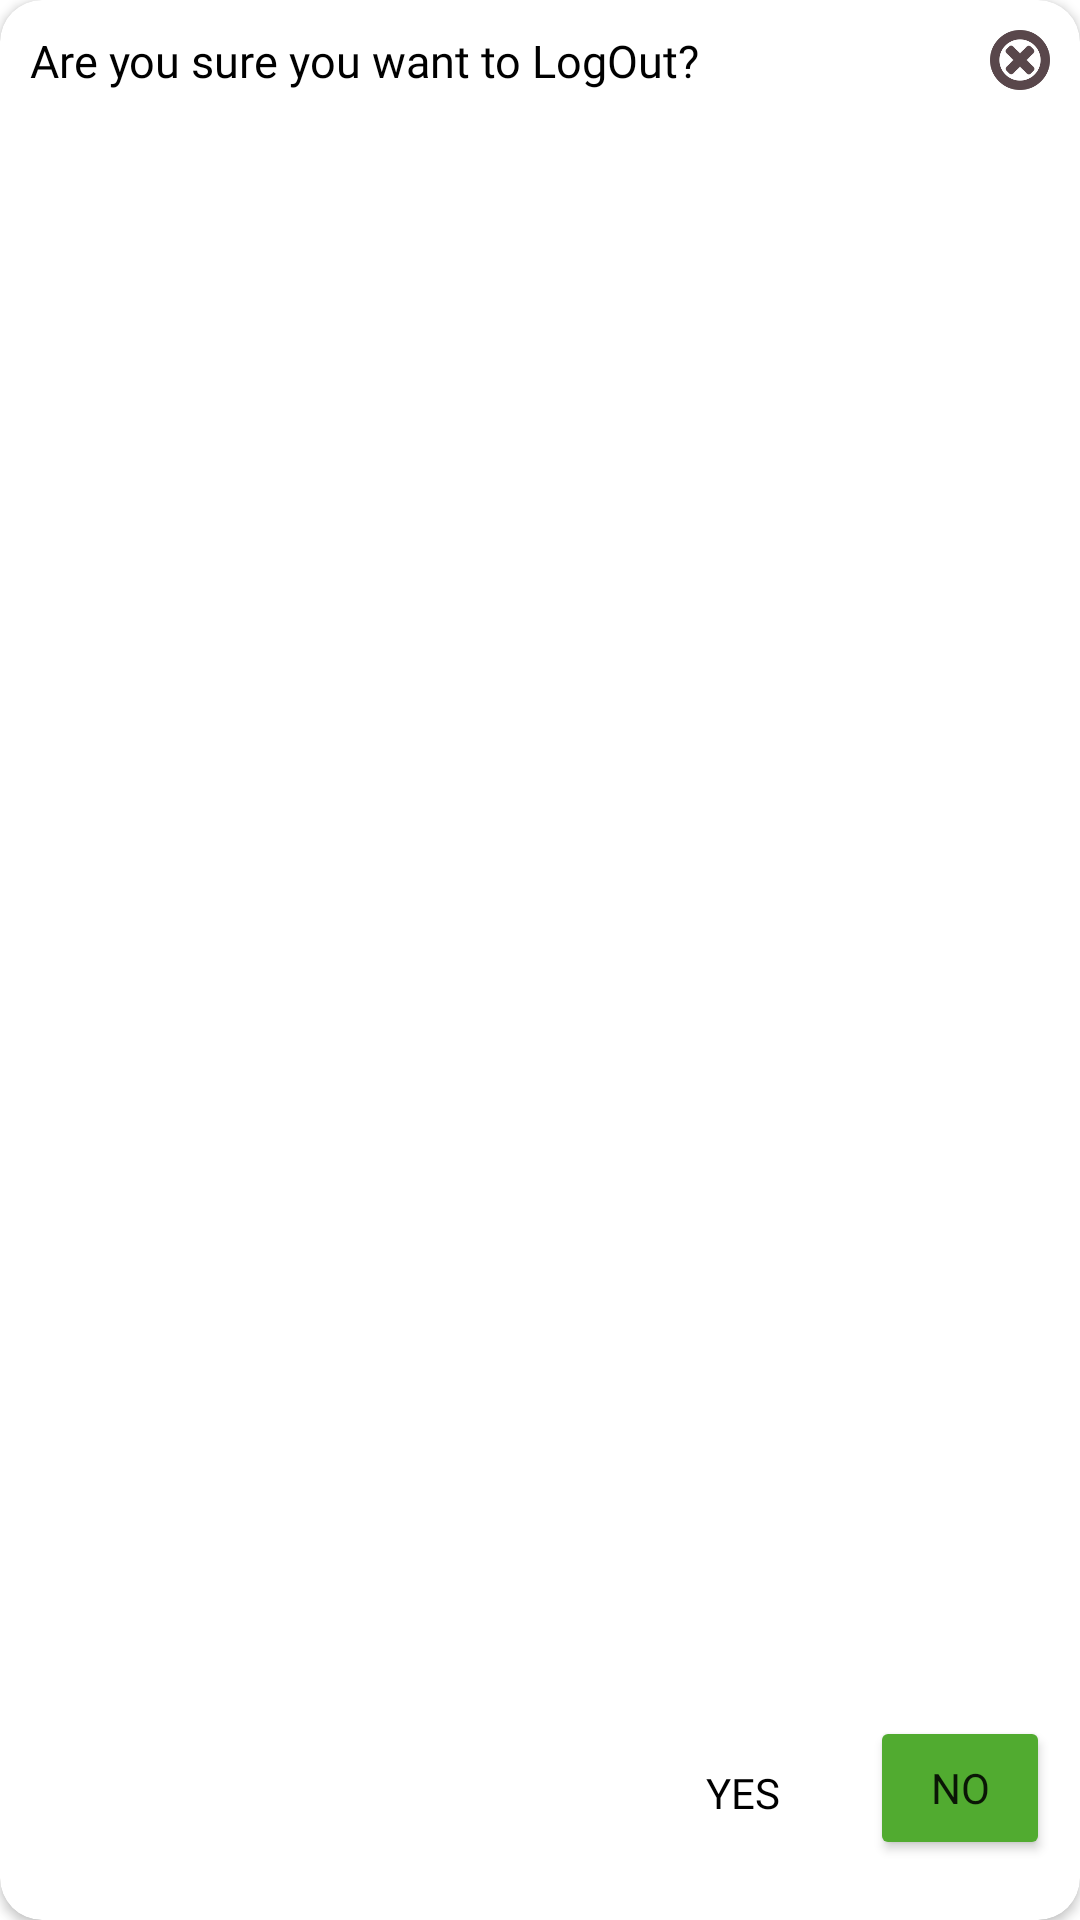

Named icons in this screenshot (1080px×1920px) and their centers, point (x, y):
cross: point (1020, 60)
